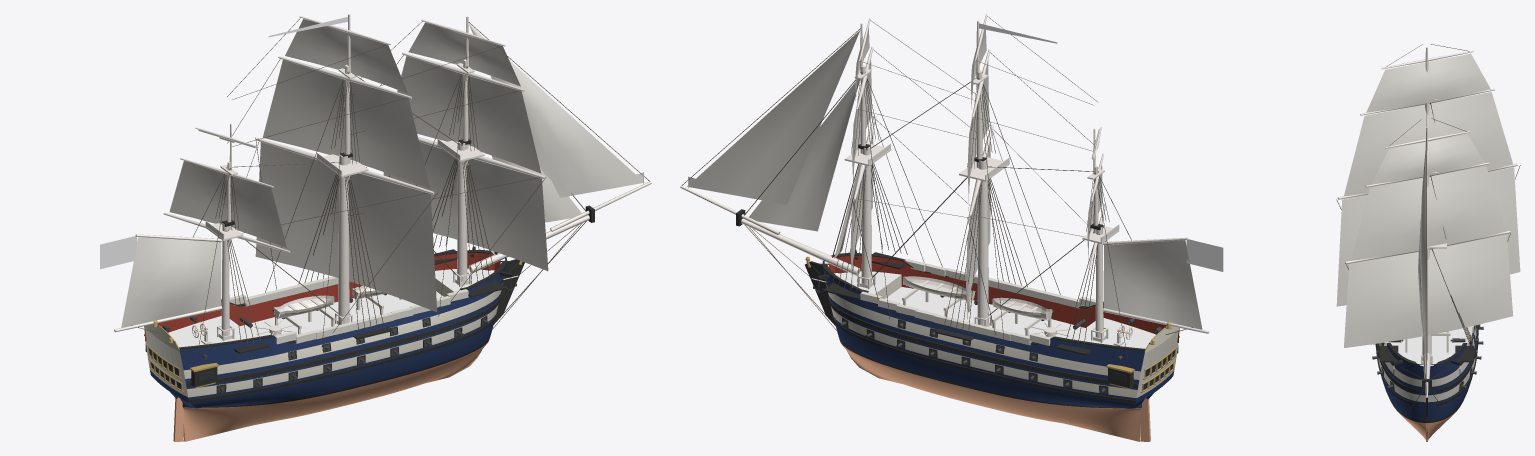
File: frigate_lod1.glb
The picture shows the model from 3 angles, left to right: view 1: azimuth 30°, elevation 25°; view 2: azimuth 150°, elevation 25°; view 3: azimuth 270°, elevation 25°; orthographic projection. The views are drawn at different scales.
Parts seen in each view (by area): view 1: SM_Frigate_LOD1; view 2: SM_Frigate_LOD1; view 3: SM_Frigate_LOD1.
Boxes of the visible parts, <box> form: SM_Frigate_LOD1: <box>100,14,651,441</box>; SM_Frigate_LOD1: <box>680,14,1223,441</box>; SM_Frigate_LOD1: <box>1336,44,1520,441</box>.
Size of the model in its own units: 51.19 by 29.7 by 14.27.
